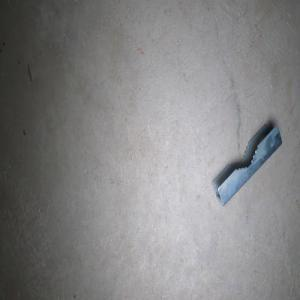ClampPart: (210, 123, 283, 207)
